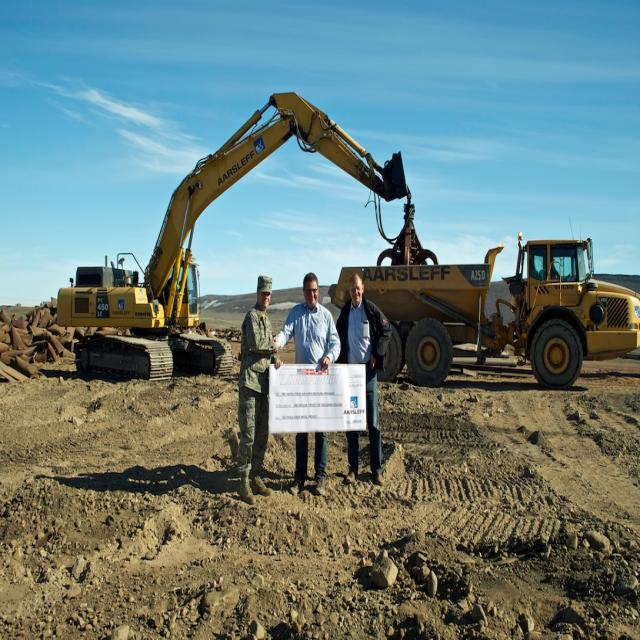dump_truck: (339, 241, 639, 410)
excavator: (44, 65, 429, 383)
